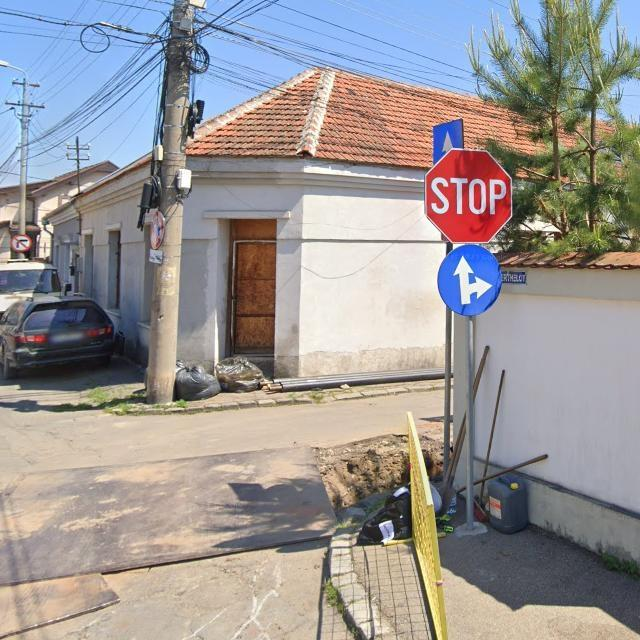prio_stop: (423, 148, 514, 244)
